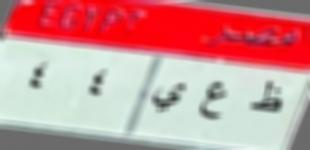4: (84, 66, 112, 105), (25, 55, 52, 95)
Thaa: (250, 81, 286, 119)
ain: (198, 76, 227, 128)
yaa: (150, 78, 187, 115)
